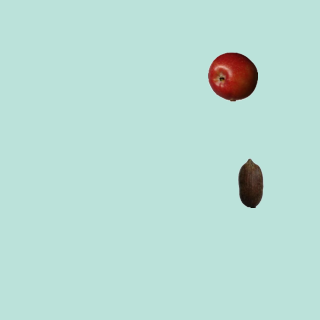Apple Braeburn: (207, 51, 257, 101)
Nut Pecan: (225, 157, 275, 207)
